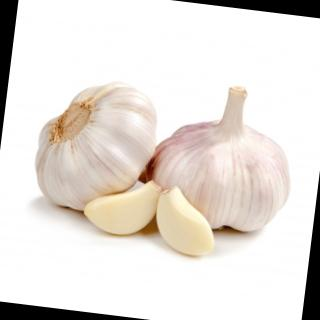Bawang Putih: (25, 59, 306, 270)
